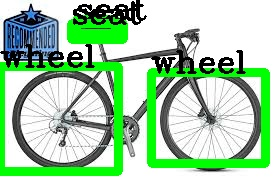seat: (71, 23, 123, 39), (76, 19, 115, 33)
wheel: (0, 66, 118, 171), (151, 72, 265, 163)
